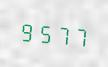five: (35, 18, 51, 46)
nine: (18, 16, 34, 45)
seven: (52, 19, 68, 48), (69, 21, 85, 49)
